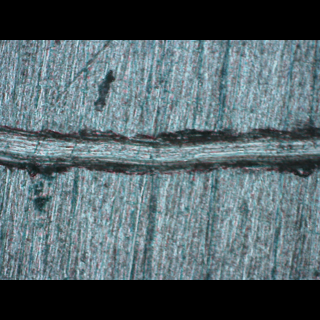d: (0, 119, 317, 179)
